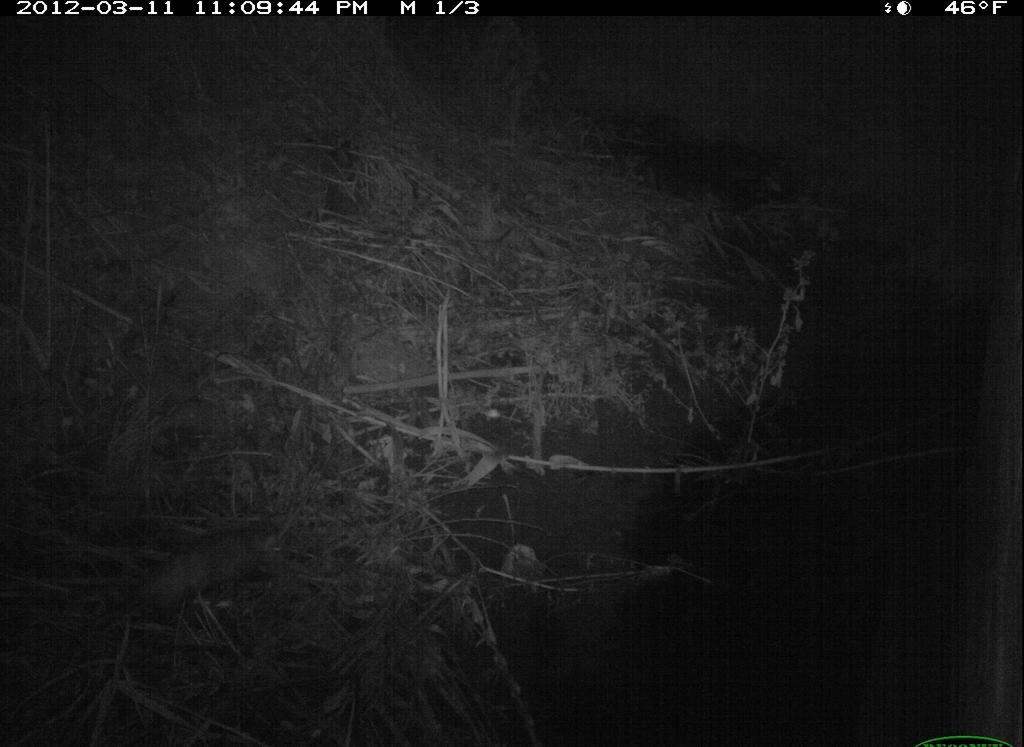opossum: (68, 506, 297, 661)
